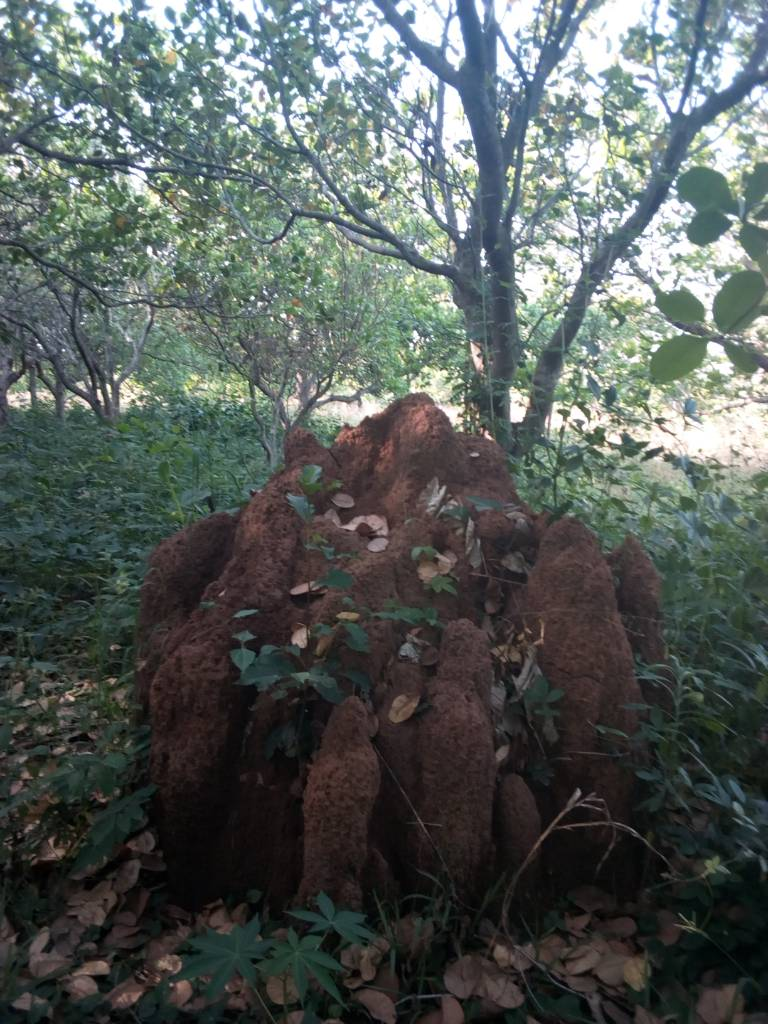Termites: (150, 500, 636, 889), (285, 414, 507, 497)
